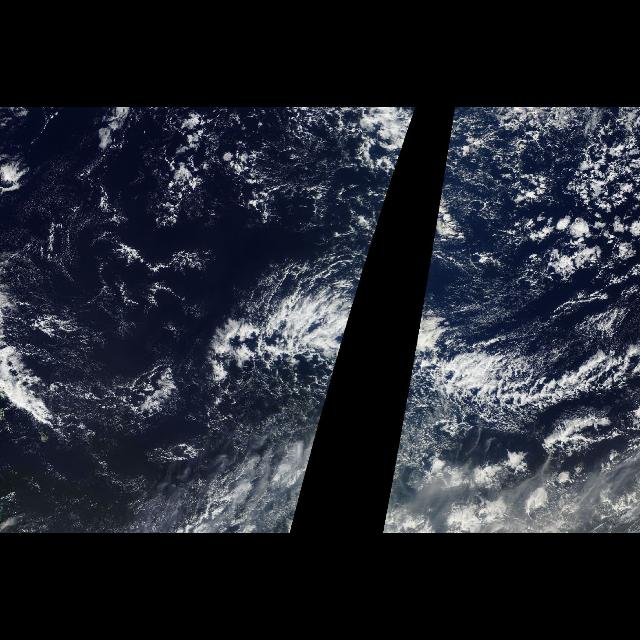Fish: (1, 238, 373, 468), (393, 238, 639, 468)
Gravel: (426, 108, 640, 346)
Sugar: (1, 212, 128, 422)
